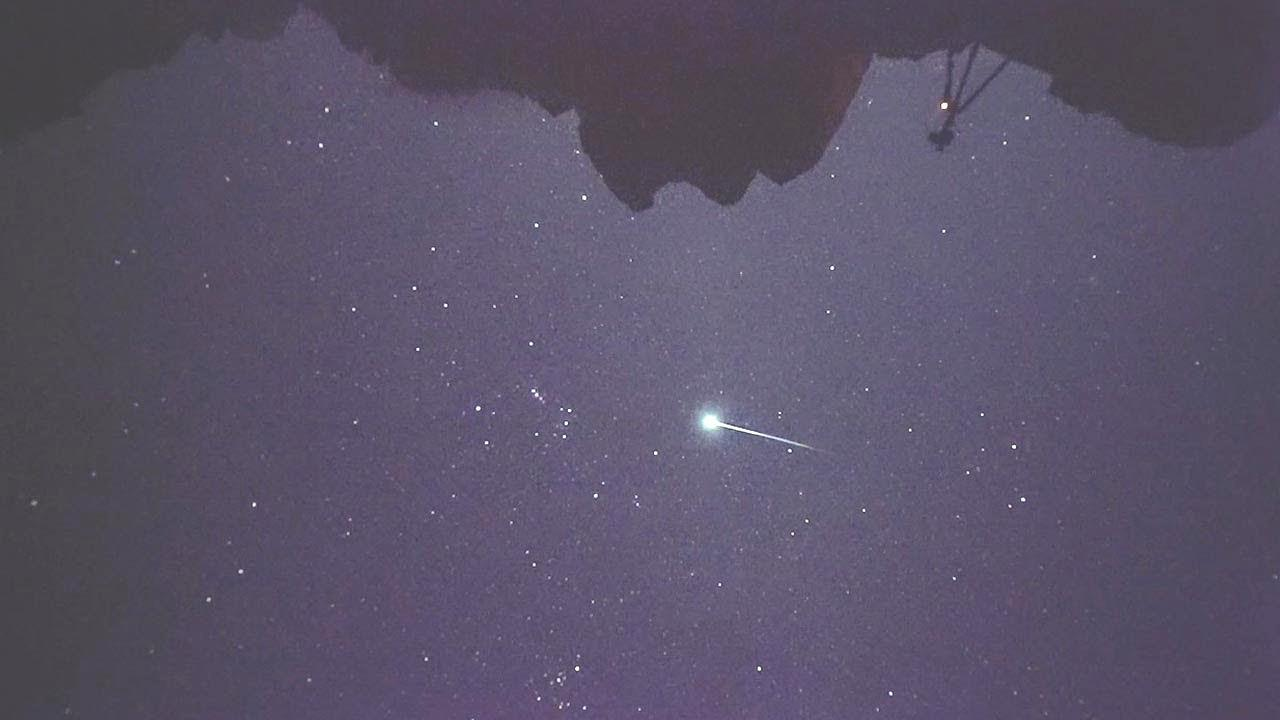meteorite: (648, 403, 850, 464)
